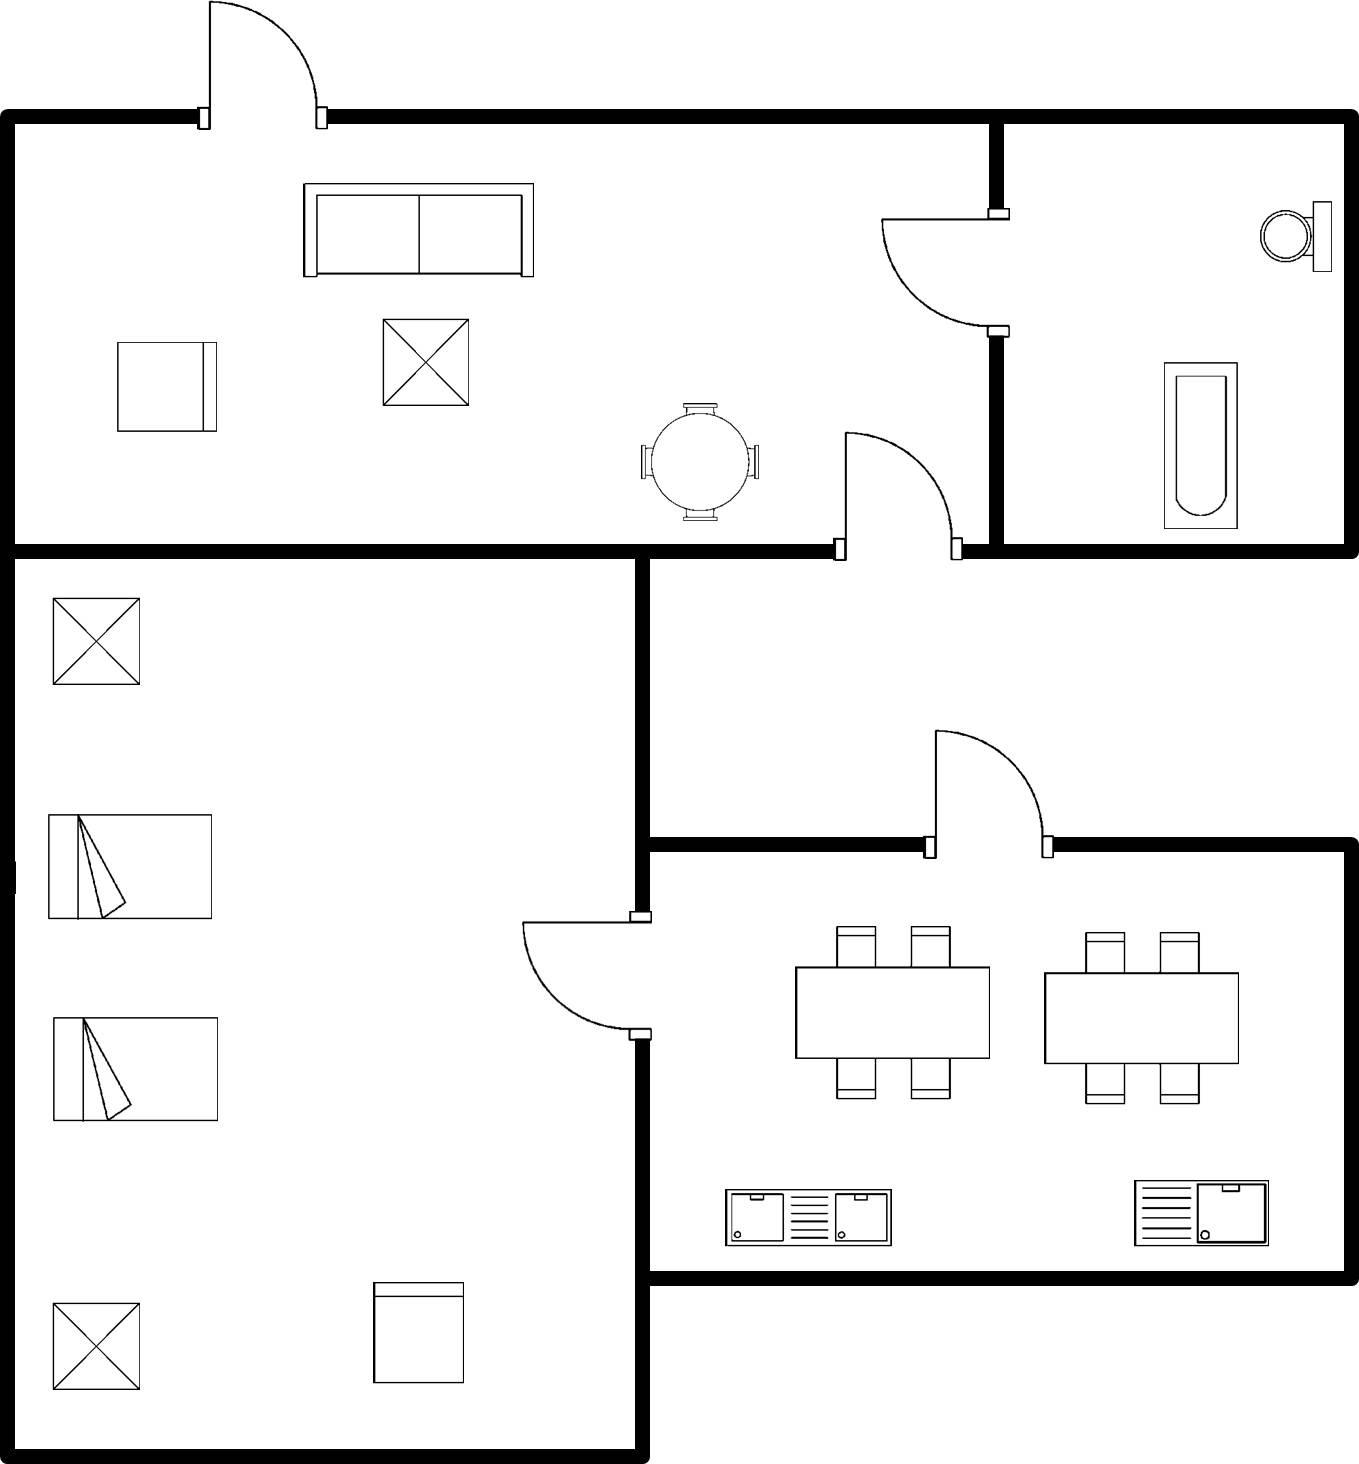sink: (710, 1173, 897, 1254)
